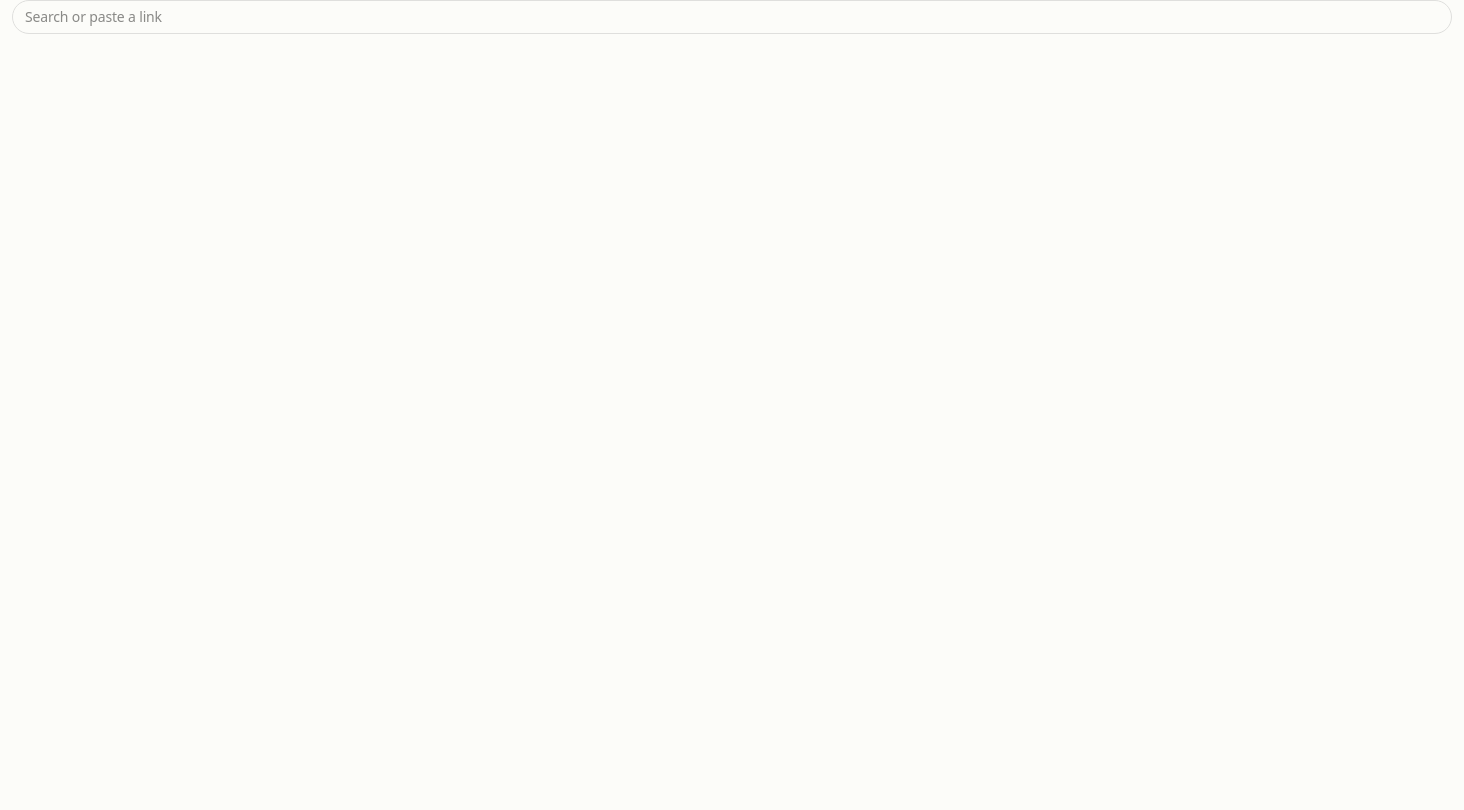
it: typing to search › treats a suggestion that no longer resolves as a failure, not a blank card
Type "estrela" into the dropdown named "Add a place" at coordinates (732, 17), box [12,0,1452,34]
(page scrolled)
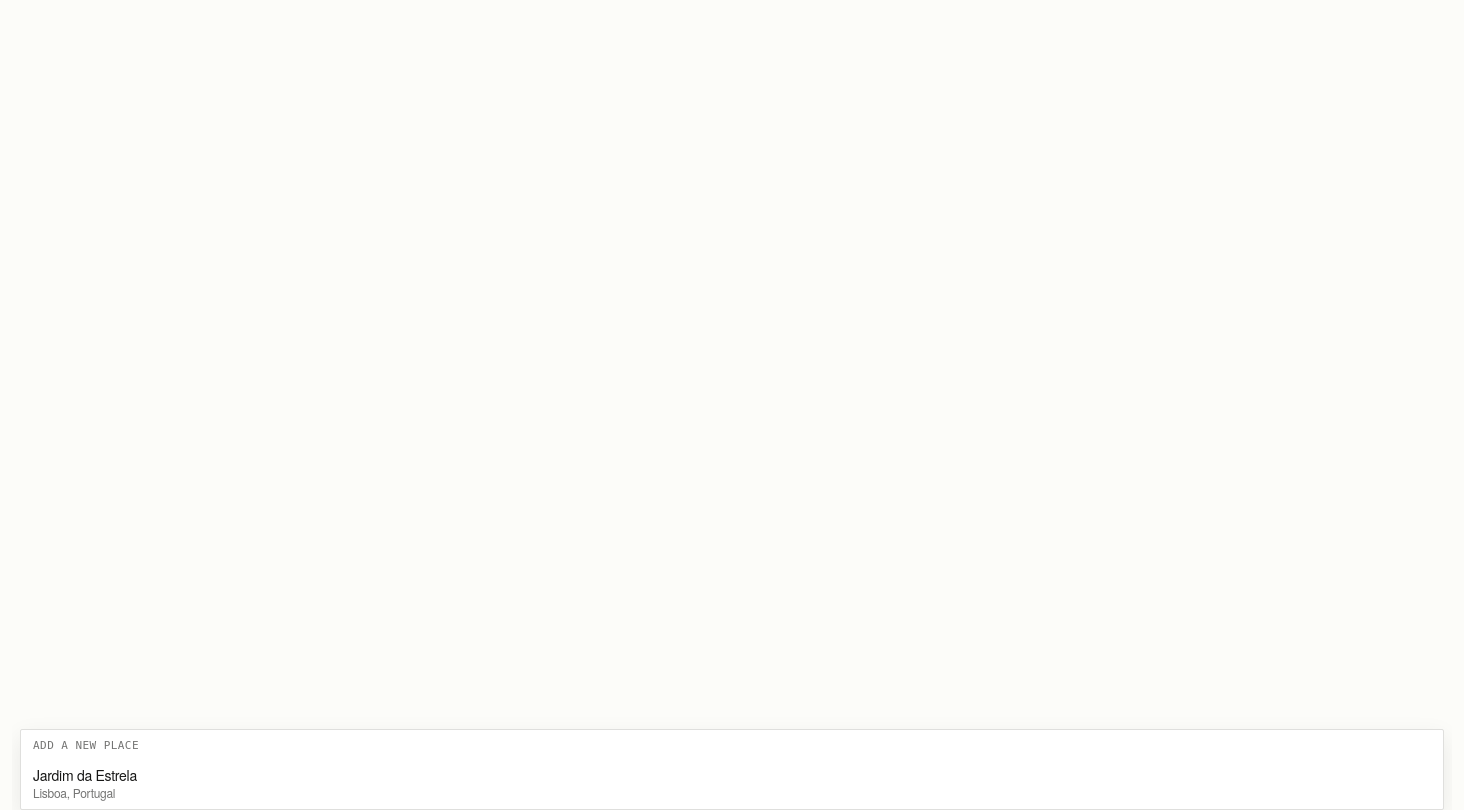
Click the option "Jardim da Estrela Lisboa, Portugal" at coordinates (85, 774), box [21,756,1443,808]
(page scrolled)
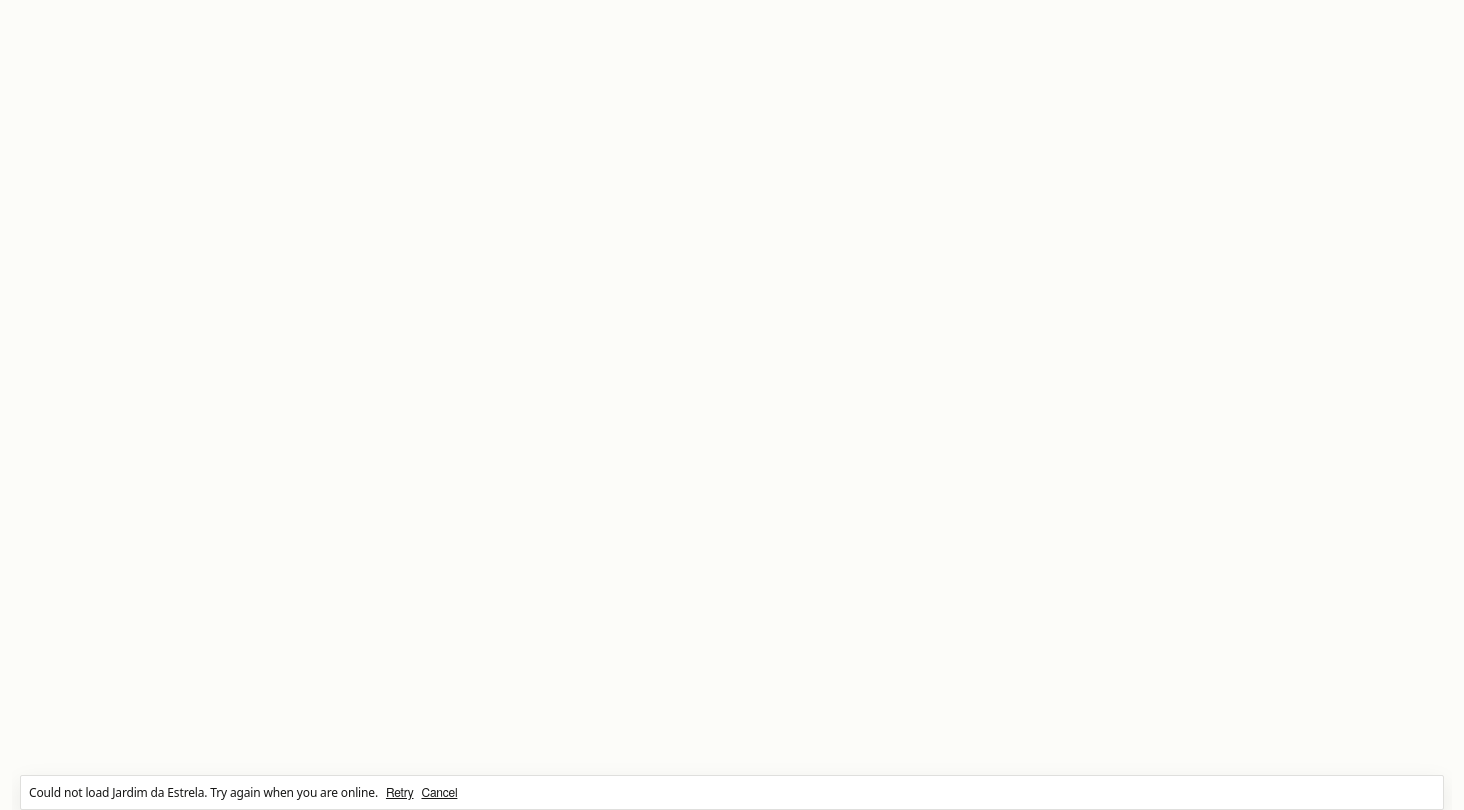
Now the element with test id "place-resolve-error" is shown, box [20,775,1444,809]
